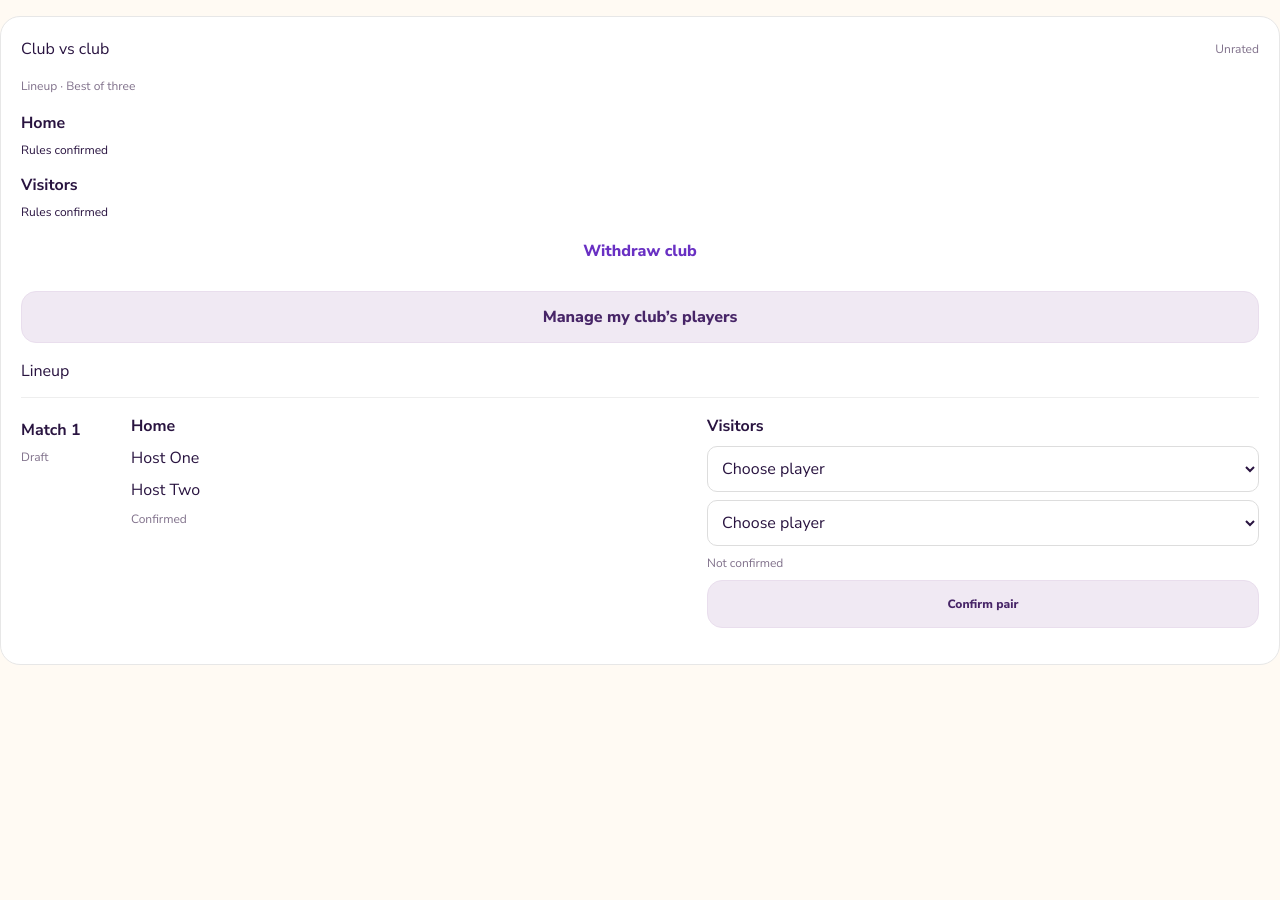
Test: Club collaboration controls › refreshes and clears a stale submitted pair so it can be reviewed
Select "Guest One" in the dropdown named "Visitors player 1 for match 1": (983, 469) [707,446,1259,492]
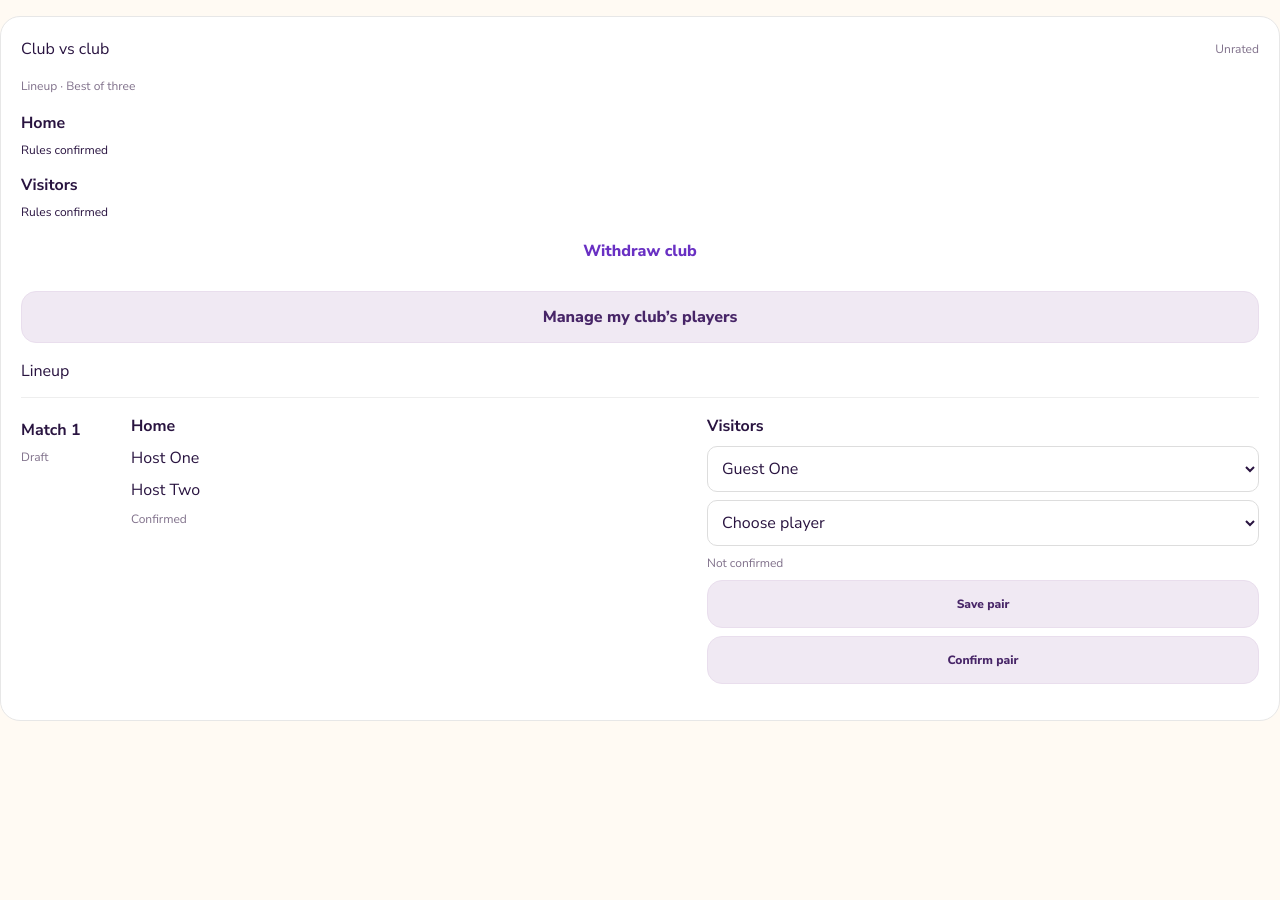
Click the button "Save pair": (983, 604) [707,580,1259,628]
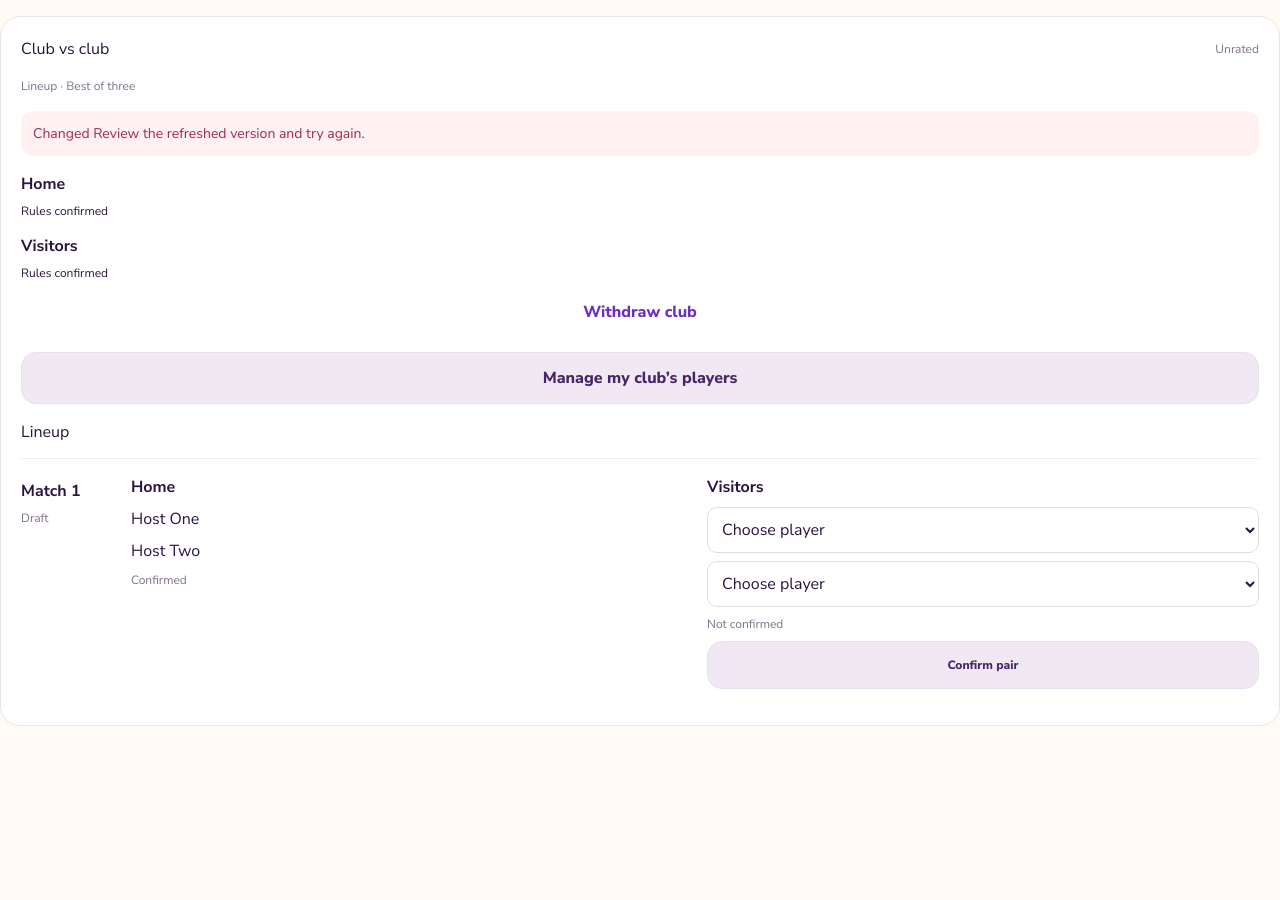
Expected: the text "Review the refreshed version" is shown, [33,124,365,143]
